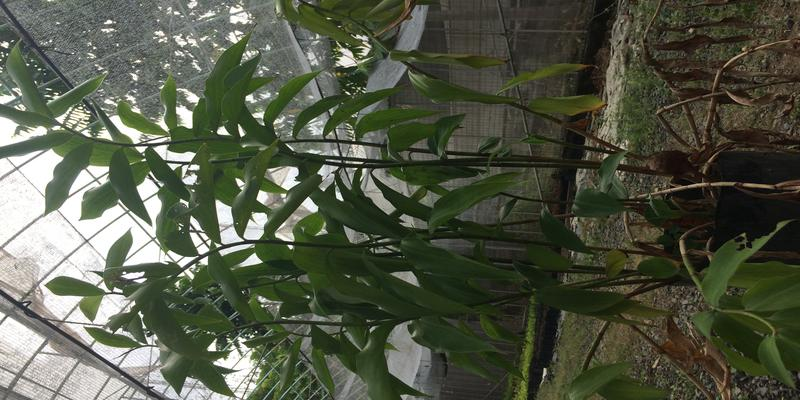Insulin: (49, 103, 737, 334)
